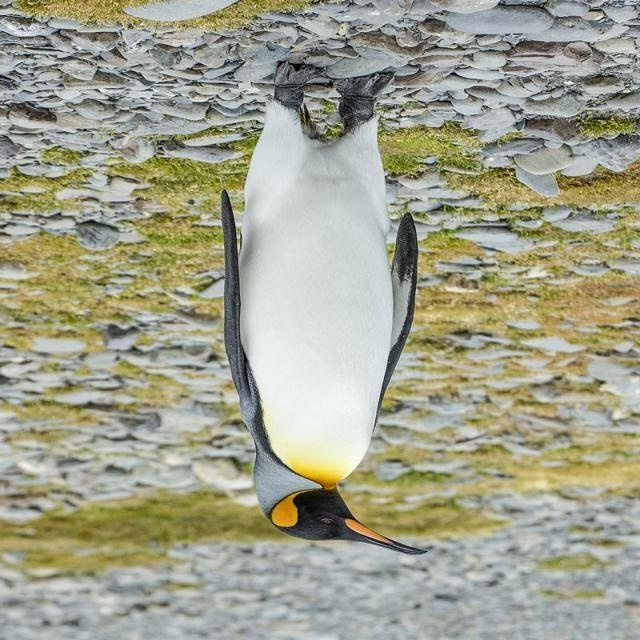penguin: (217, 58, 429, 558)
